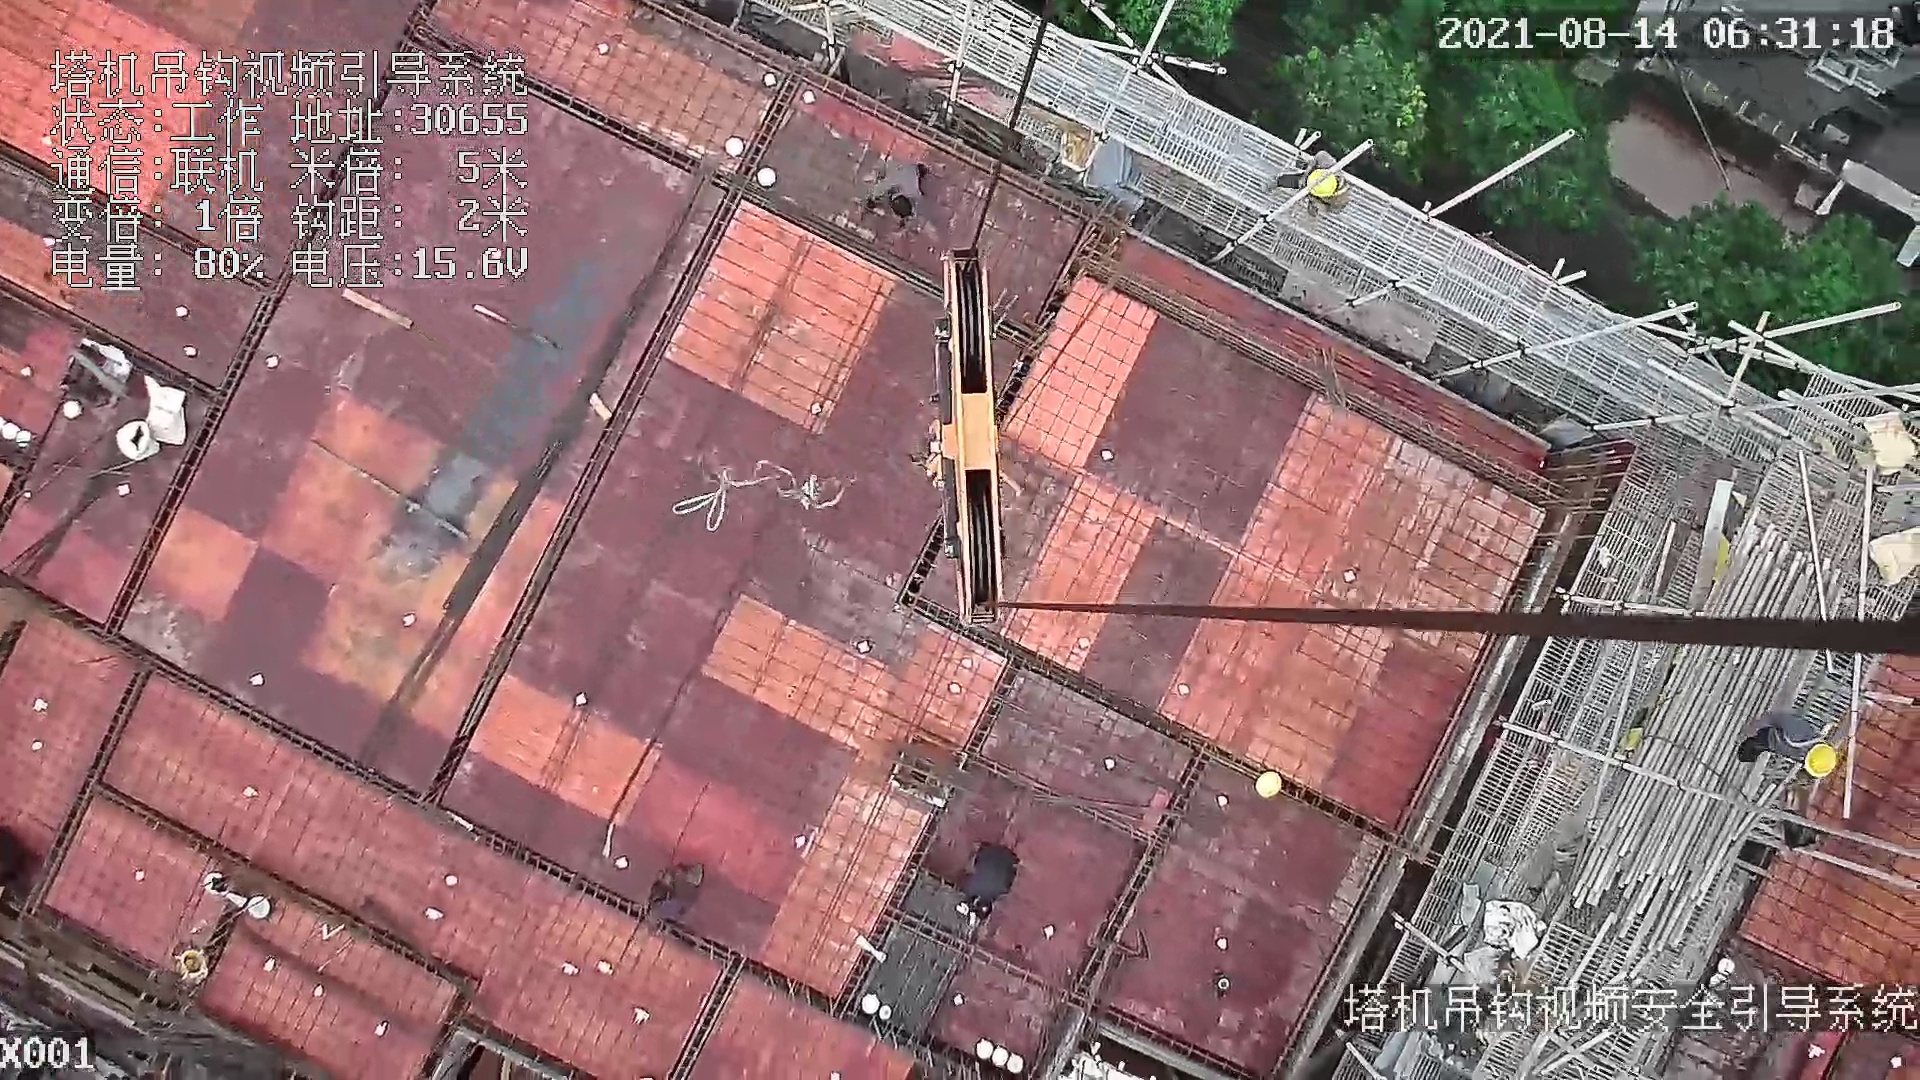helmet: (1807, 743, 1836, 780), (1307, 165, 1339, 197), (1250, 770, 1283, 799)
hook: (933, 246, 1014, 627)
person: (1737, 708, 1842, 785), (1267, 146, 1358, 222), (953, 841, 1021, 922), (866, 157, 930, 222)
scaffold: (1624, 501, 1844, 937)
